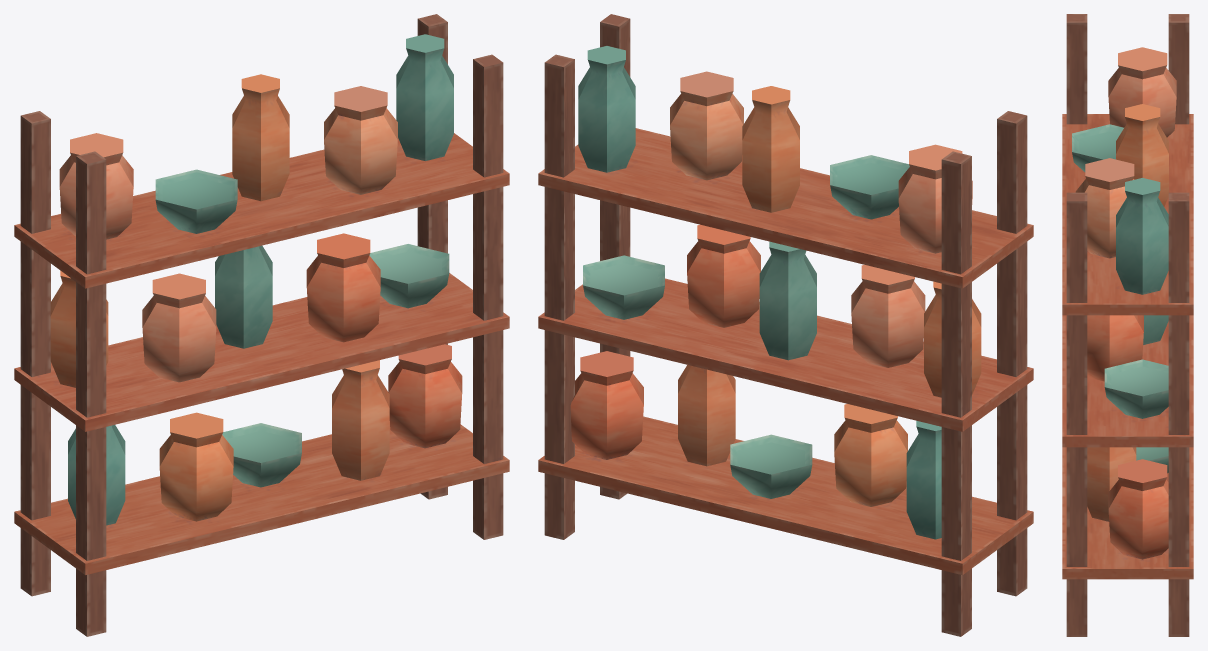
File: pot_rack_low.fbx
3 renders of one model, left to right at view 1: azimuth 30°, elevation 25°; view 2: azimuth 150°, elevation 25°; view 3: azimuth 270°, elevation 25°, orthographic. The views are drawn at different scales.
Visible parts, largest first — view 1: pot_rack; view 2: pot_rack; view 3: pot_rack.
Part boxes in pixels (<box>): pot_rack: <box>14,14,509,636</box>; pot_rack: <box>538,14,1033,636</box>; pot_rack: <box>1062,14,1193,636</box>.
Bounding box in the file's own units: 6.2 × 6.6 × 1.8.
Materials: 1 (1 with a texture image).
